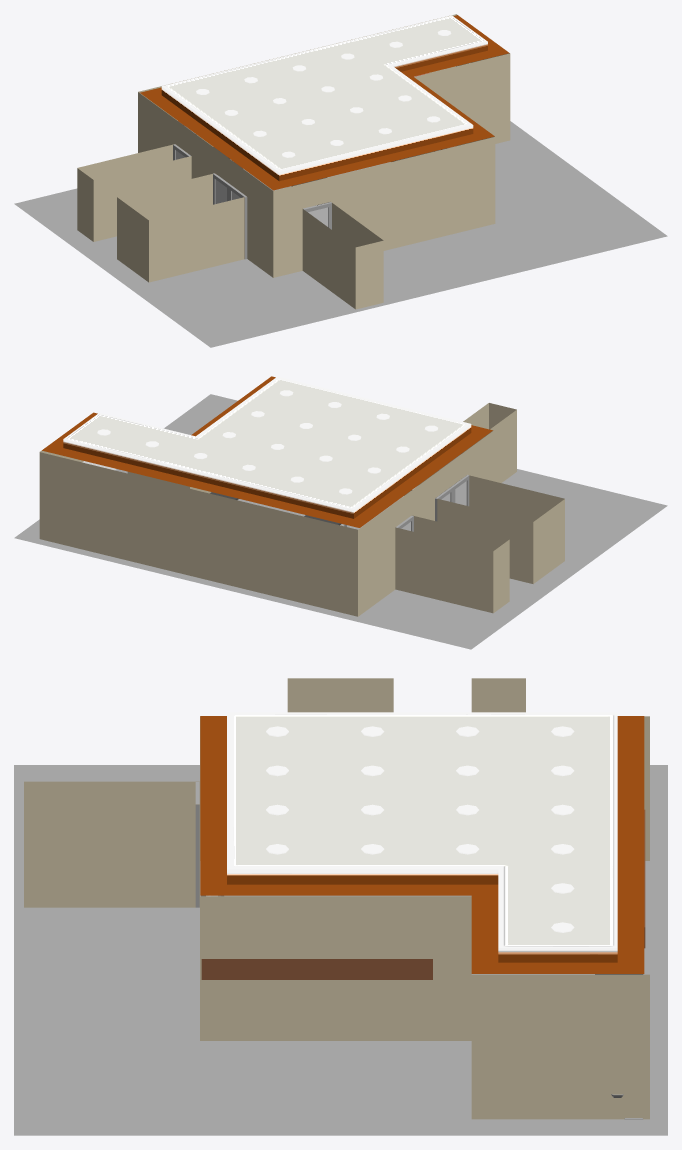
Rendered from Map V4.fbx.
3 renders of one model, top to bottom at view 1: azimuth 30°, elevation 25°; view 2: azimuth 150°, elevation 25°; view 3: azimuth 270°, elevation 25°, orthographic. The views are drawn at different scales.
Visible parts, largest first — view 1: Tembok, Lantai, Atap; view 2: Tembok, Atap, Lantai, Pintu 1; view 3: Atap, Tembok, Lantai, Rak Solid.
Boxes of the visible parts, x1,y1,x2,y2 form: Tembok: (77,14,510,309); Lantai: (14,121,667,347); Atap: (140,15,509,190); Tembok: (39,403,564,616); Atap: (42,376,492,527); Lantai: (14,394,667,649); Pintu 1: (452,474,469,506); Atap: (200,712,644,973); Tembok: (24,678,649,1119); Lantai: (14,765,667,1135); Rak Solid: (201,959,432,979).
Size of the model in its own units: 3785 by 768 by 2821.
23 materials, 22 textured.
